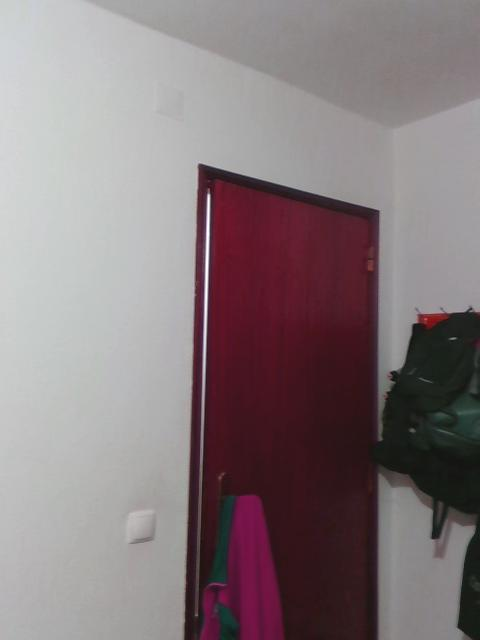closed_door: (183, 161, 378, 639)
